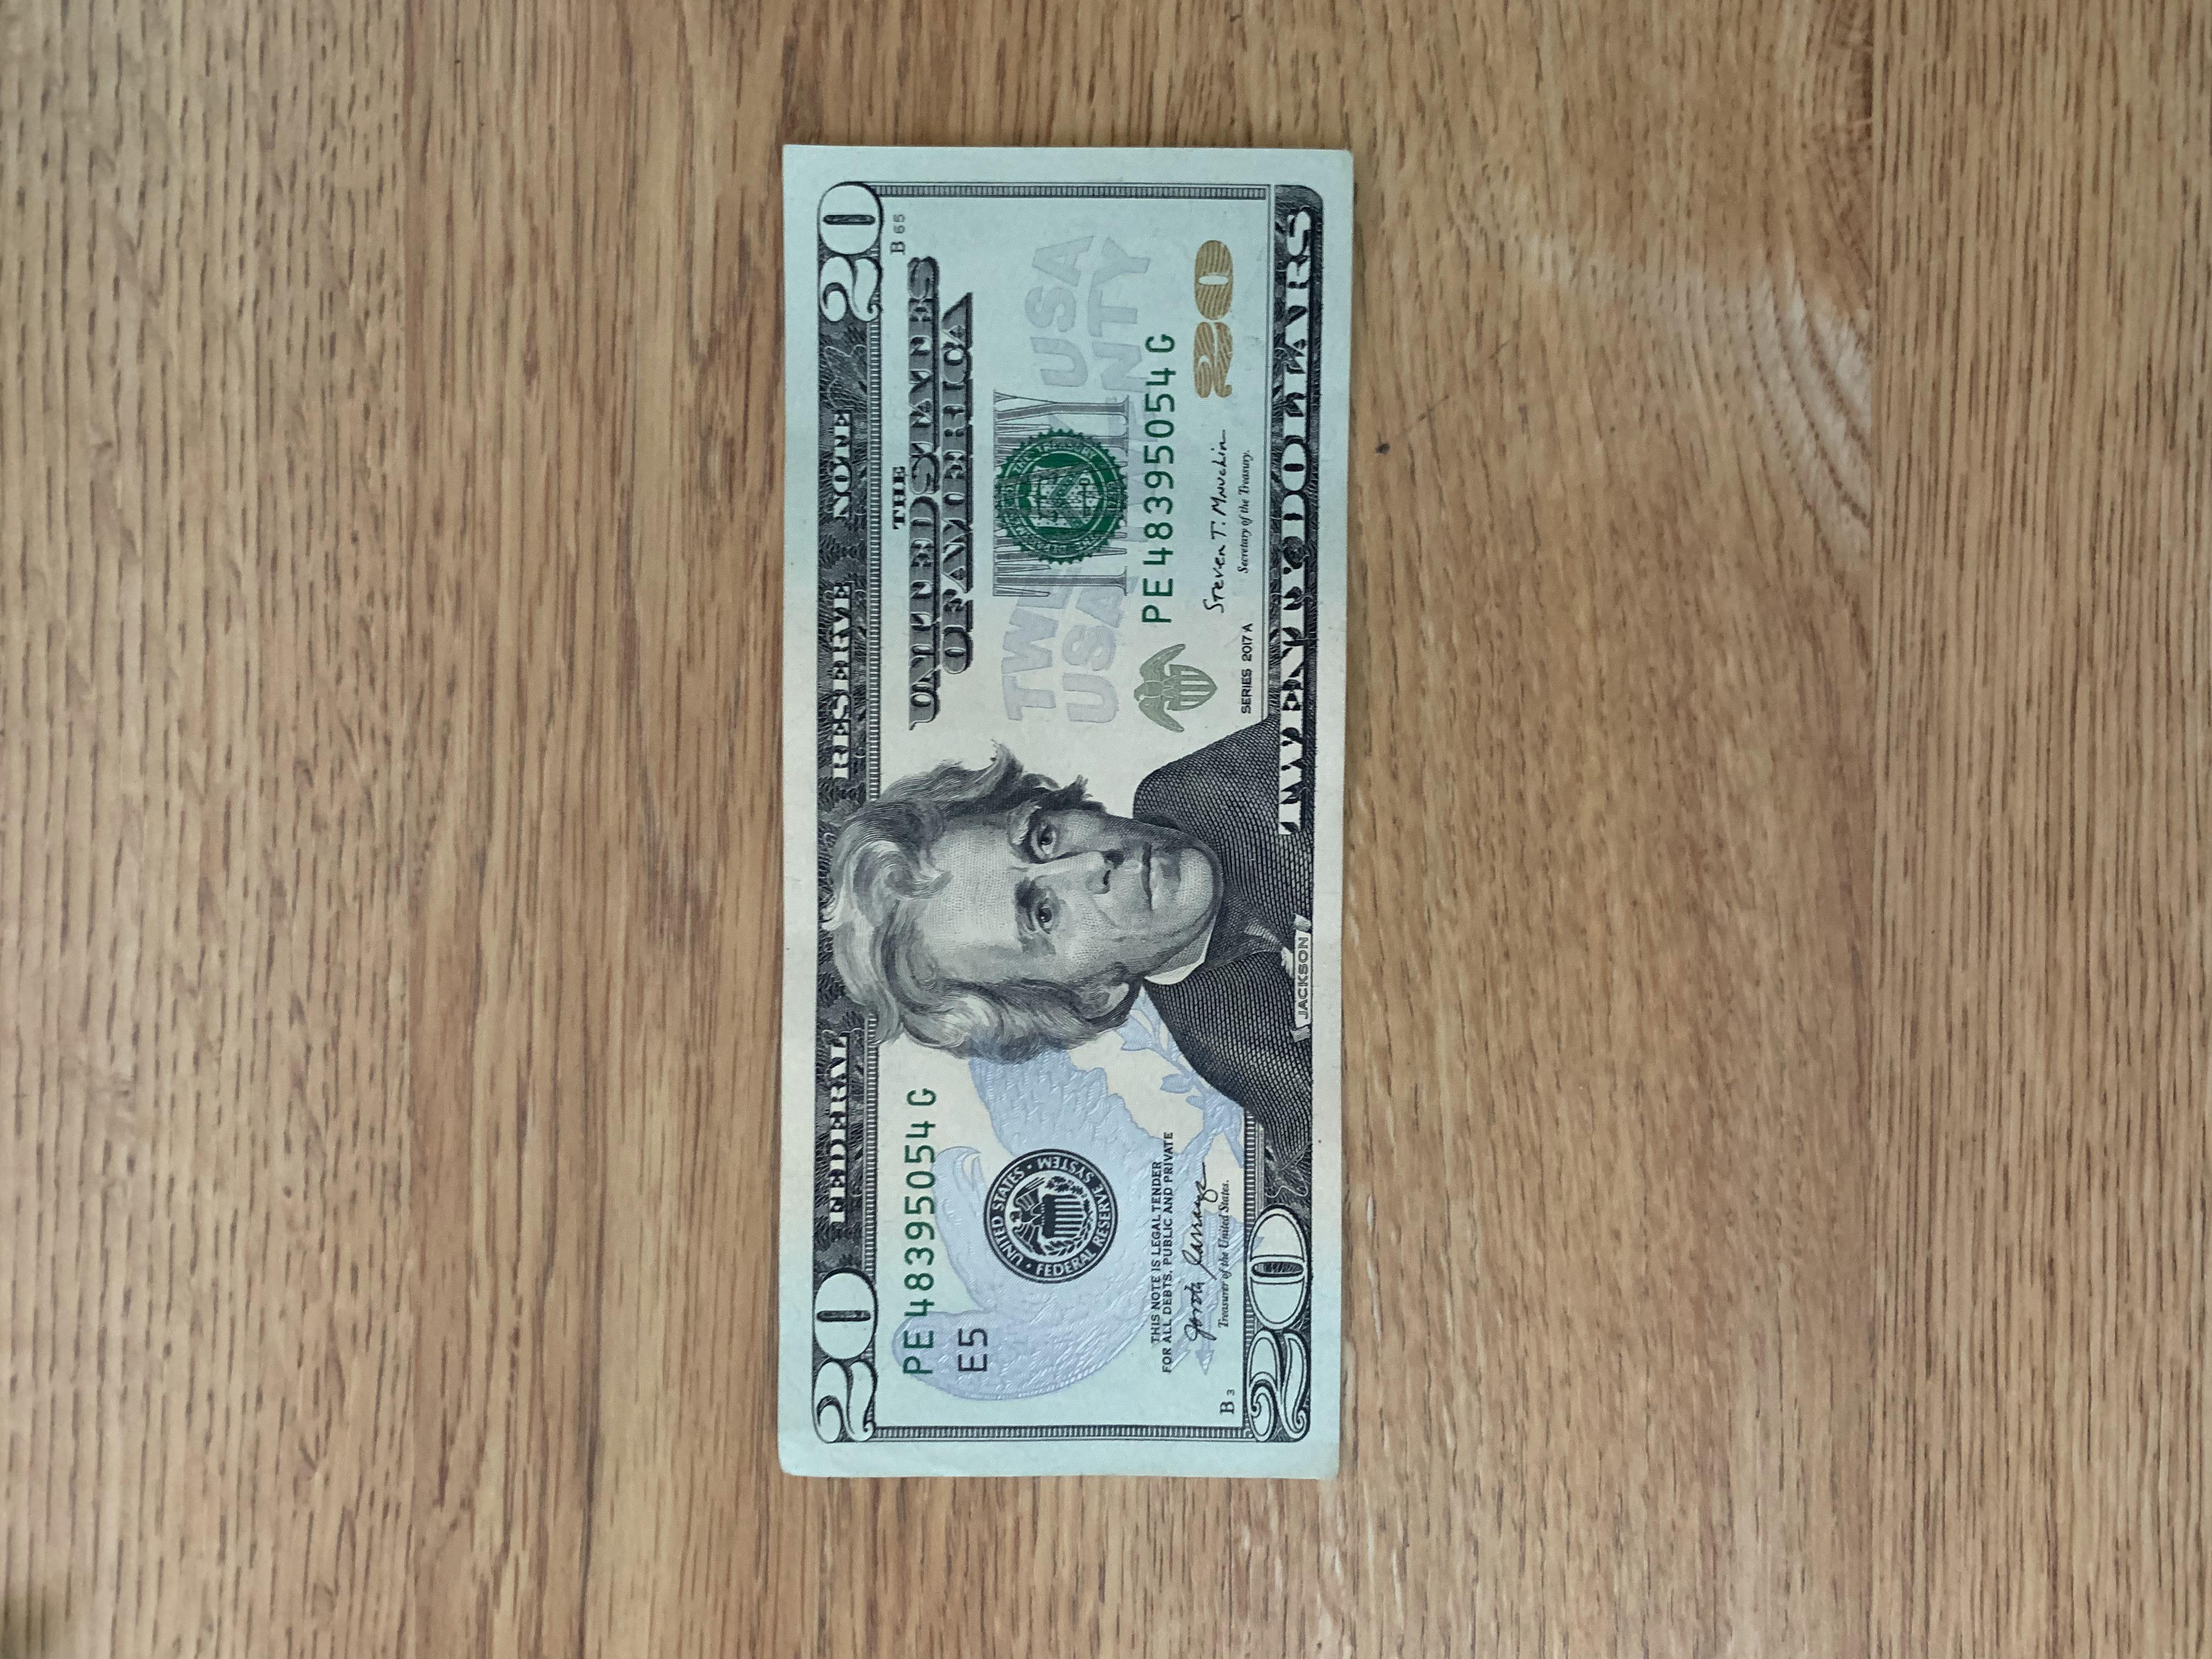TwentyBill: (766, 136, 1362, 1483)
